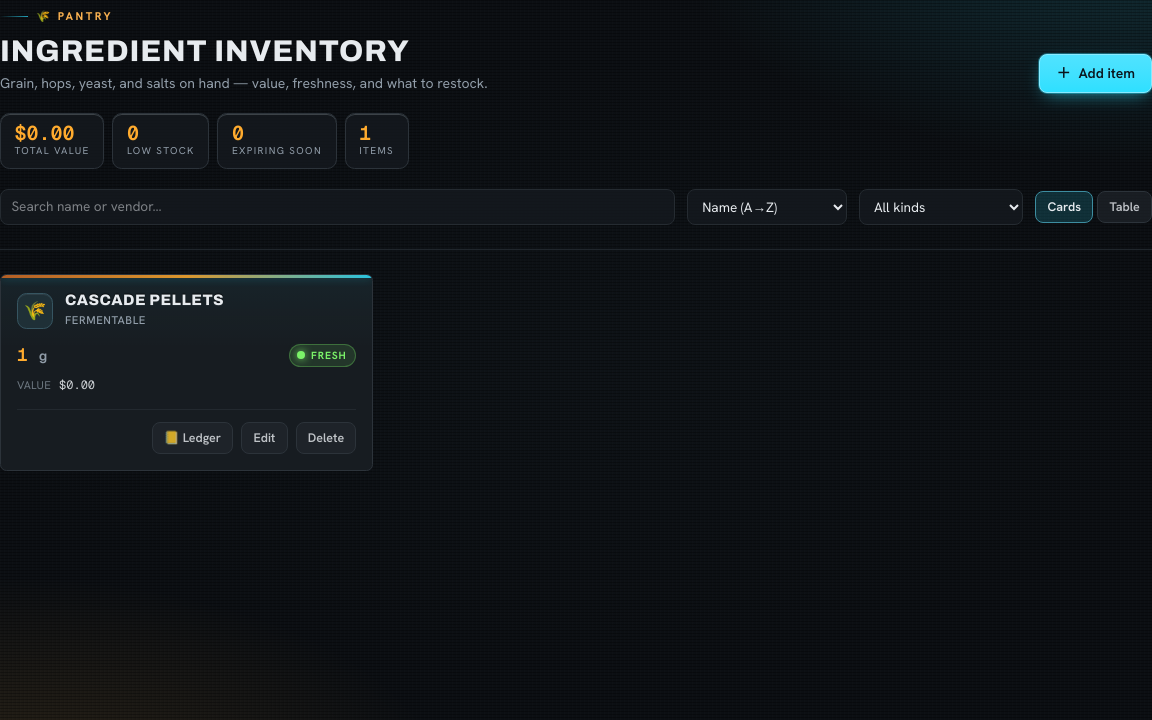
Test: InventoryView › toggles between card and table views
Check: the heading "Cascade pellets" is shown, box [65,292,224,308]
What coordinates should you click on to do the following:
click the button "Table"
I would click on:
 (1125, 207)
Its box is [1097,191,1151,223].
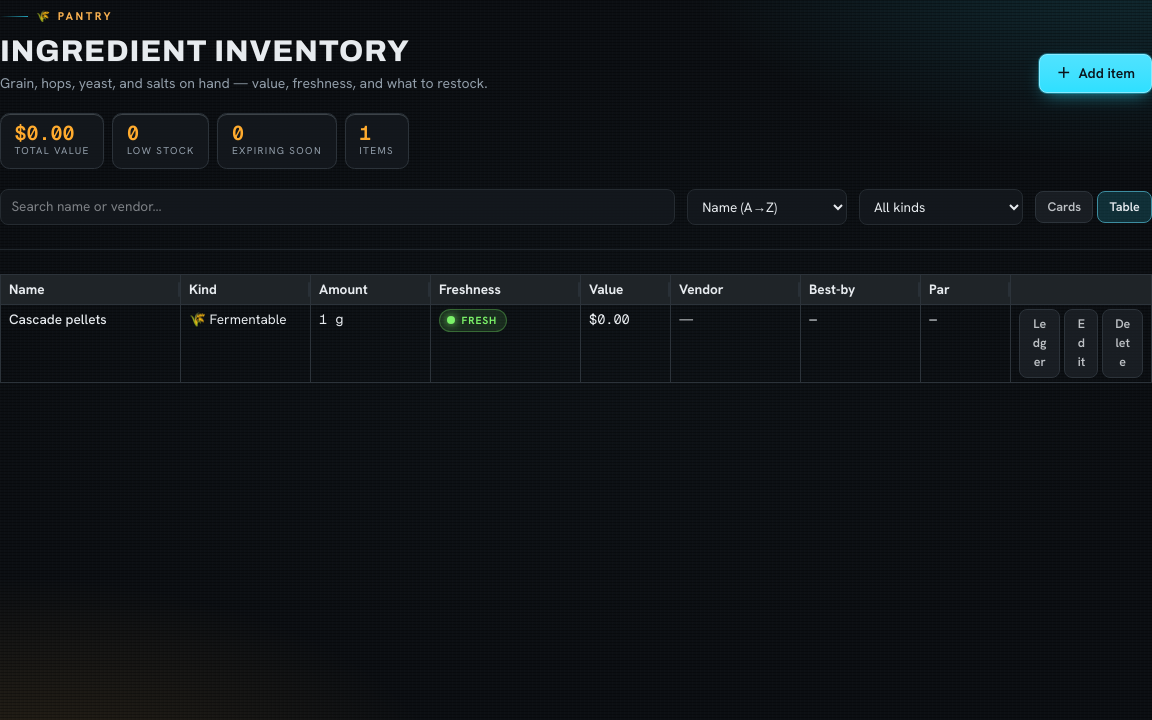
Check: the button "Cascade pellets" is shown, box [9,309,107,329]
Check: the column heading "Freshness" is shown, box [430,275,580,304]
What coordinates should you click on to do the following:
click the button "Cards"
I would click on:
 (1064, 207)
Its box is [1035,191,1093,223].
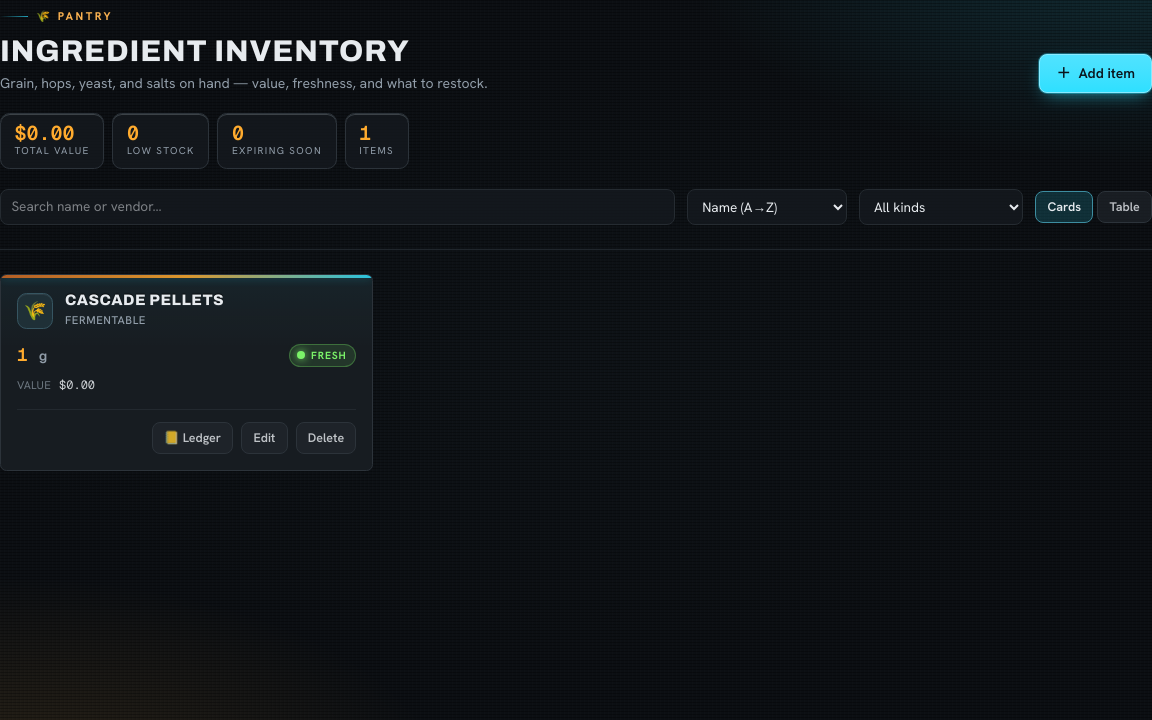
Check: the table is gone
